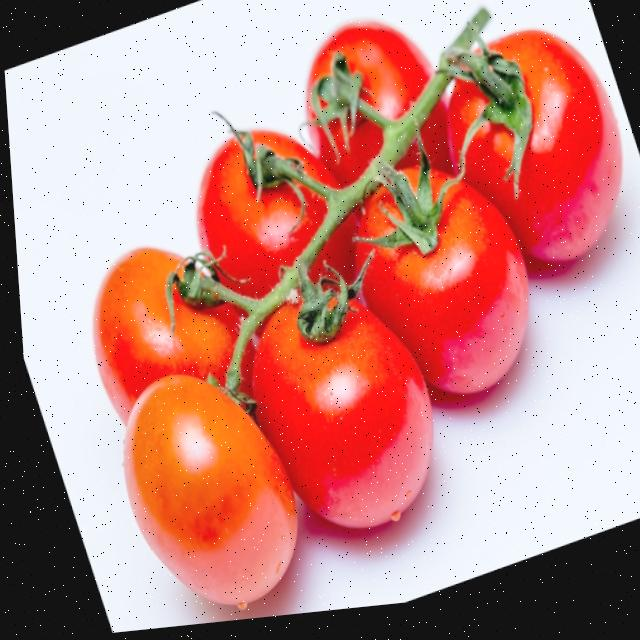ripe2: (122, 375, 297, 607), (252, 304, 432, 527), (354, 179, 528, 394), (465, 29, 621, 261), (93, 247, 240, 424), (197, 135, 325, 297), (305, 21, 433, 119), (307, 111, 381, 183), (446, 81, 489, 169), (309, 214, 357, 283), (276, 141, 340, 187), (421, 94, 451, 170), (250, 129, 290, 154), (429, 167, 452, 199), (400, 164, 418, 194)
